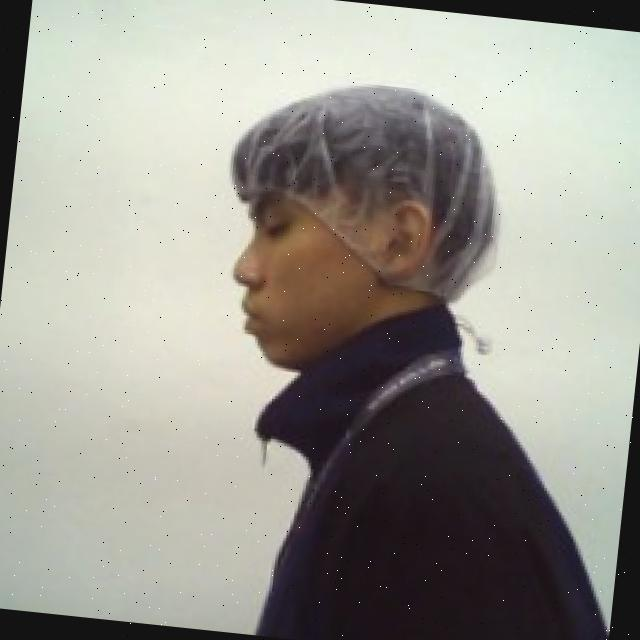gloves: (210, 60, 524, 316)
no_hairnet: (217, 179, 436, 390)
